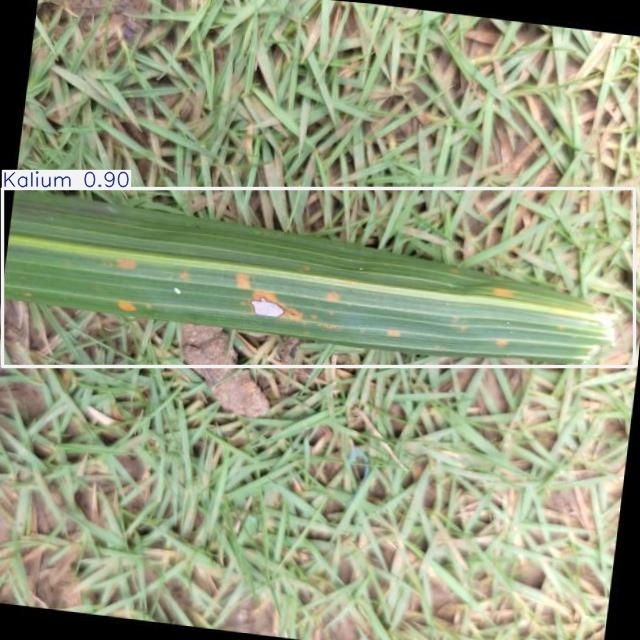Kalium: (3, 188, 634, 367)
